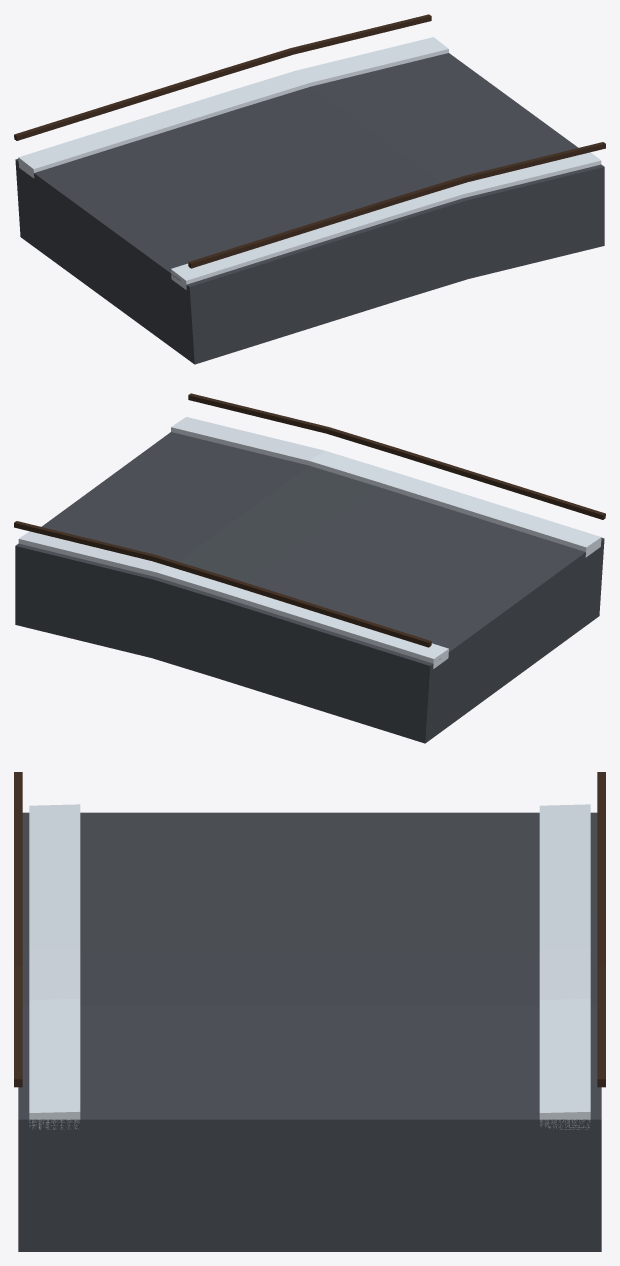
File: DepotRamp_-2_-2.fbx
3 renders of one model, top to bottom at view 1: azimuth 30°, elevation 25°; view 2: azimuth 150°, elevation 25°; view 3: azimuth 270°, elevation 25°, orthographic. The views are drawn at different scales.
Parts seen in each view (by area): view 1: DepotRamp_-2_-2; view 2: DepotRamp_-2_-2; view 3: DepotRamp_-2_-2.
Part boxes in pixels (x1,y1,x2,y2): DepotRamp_-2_-2: [14, 14, 605, 364]; DepotRamp_-2_-2: [14, 393, 605, 743]; DepotRamp_-2_-2: [14, 772, 605, 1251].
Bounding box in the file's own units: 1101 × 309 × 812.
